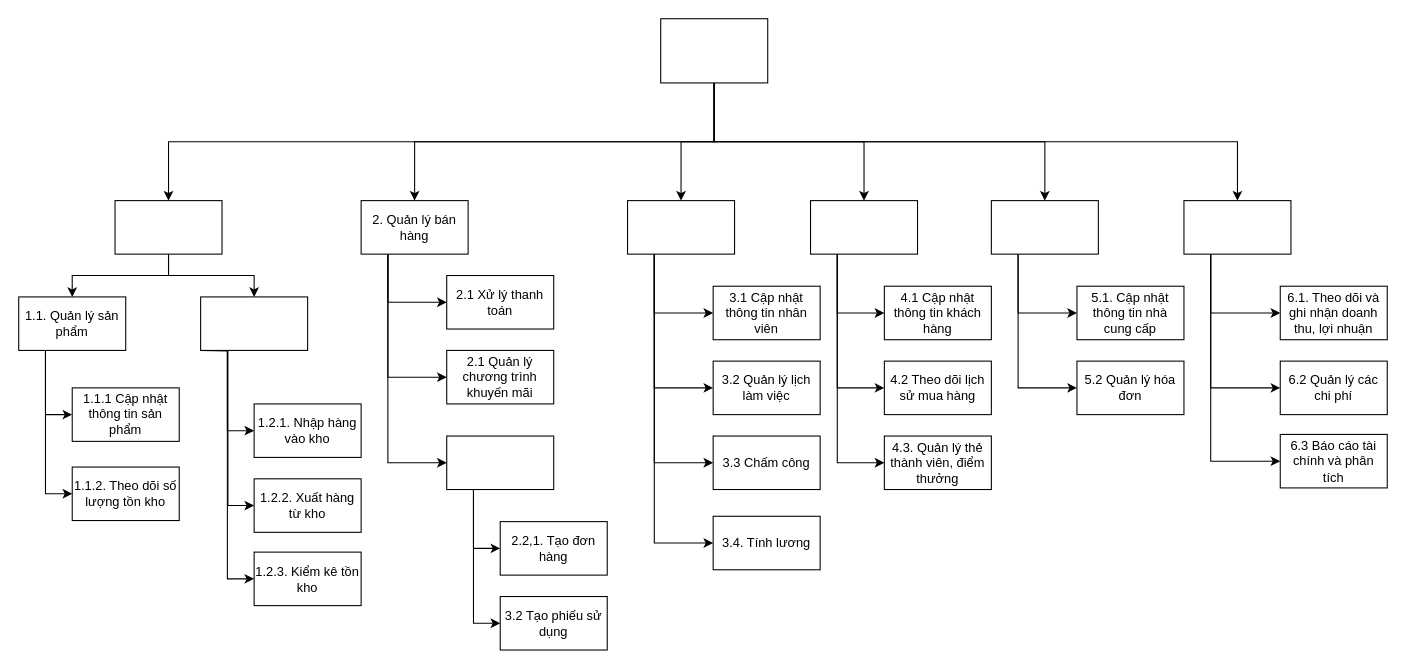
Some shapes in this 1406 by 669 pixel diagram are drawn without their labels. Each missing label, with the centre of its shape:
1. Quản lý hàng hóa: pixel 168 227
1.2. Quản lý kho: pixel 254 323
2.3. Quản lý hóa đơn: pixel 500 462
3. Quản lý nhân viên: pixel 680 227
4. Quản lý khách hàng: pixel 863 227
5. Quản lý nhà cung cấp: pixel 1044 227
6. Quản lý tài chính: pixel 1237 227
Quản lý khách sạn: pixel 714 50
